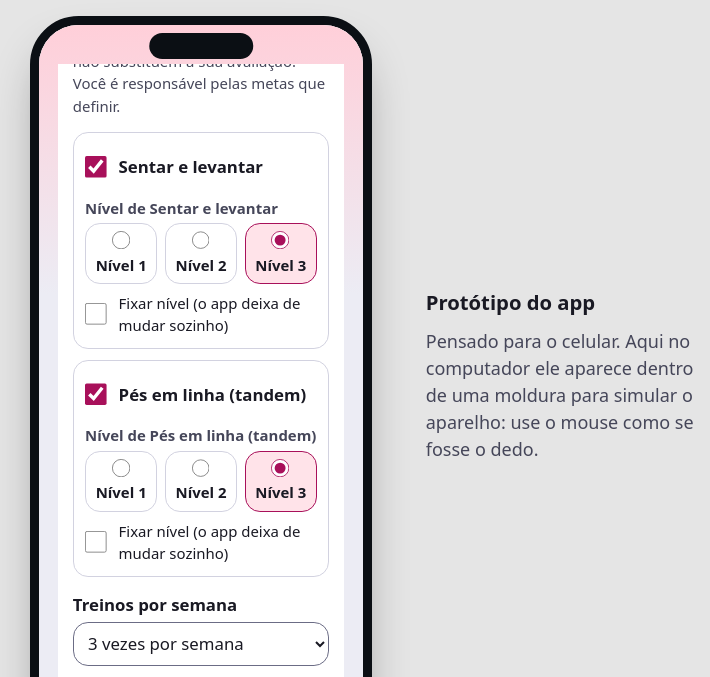
ajustar a rotina › só mostra o nível se o exercício estiver na rotina, com os 3 níveis disponíveis
(page scrolled)
Expected: the 1st radio button labelled "Nível 1" is enabled, [112, 231, 131, 250]
Expected: the 1st radio button labelled "Nível 3" is enabled, [272, 231, 290, 250]
Click the checkbox labelled "Pés em linha (tandem)". click: (96, 395)
box: [85, 383, 107, 406]
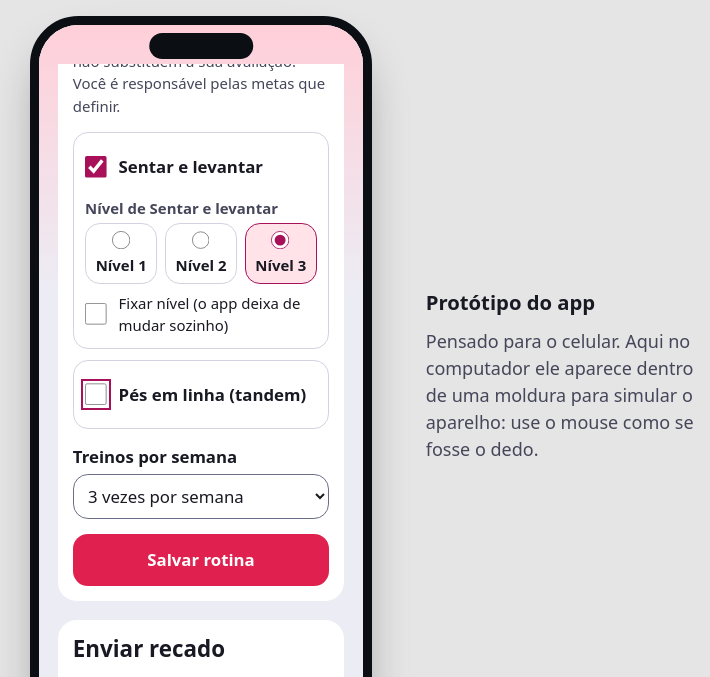
Expected: the text "Nível de Pés em linha (tandem)" is gone
